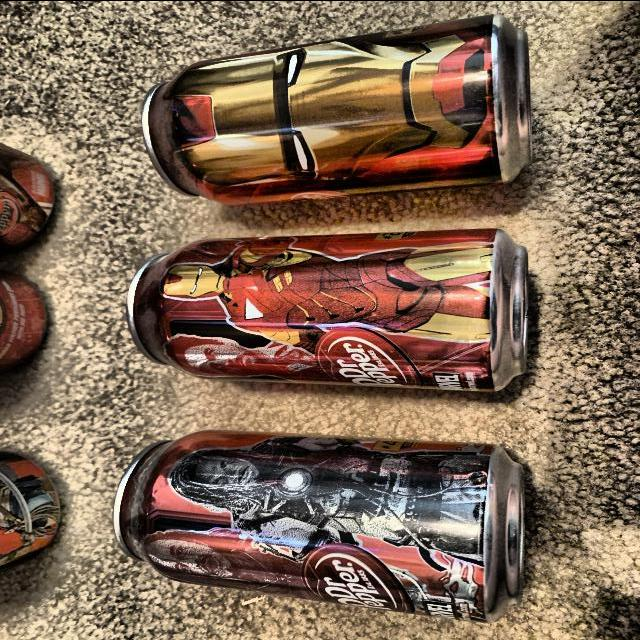Aluminum Can: (104, 428, 548, 621), (138, 12, 552, 208), (123, 221, 540, 396), (0, 439, 73, 570), (0, 129, 67, 255), (0, 260, 53, 382)
